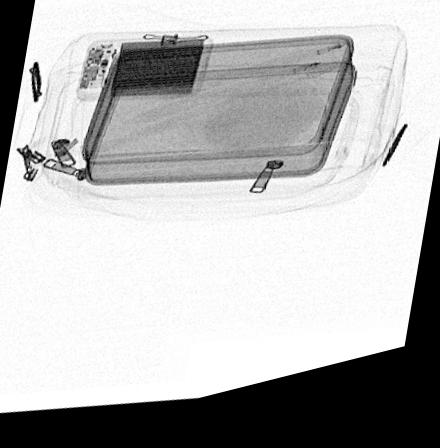Powerbank: (73, 43, 215, 108)
